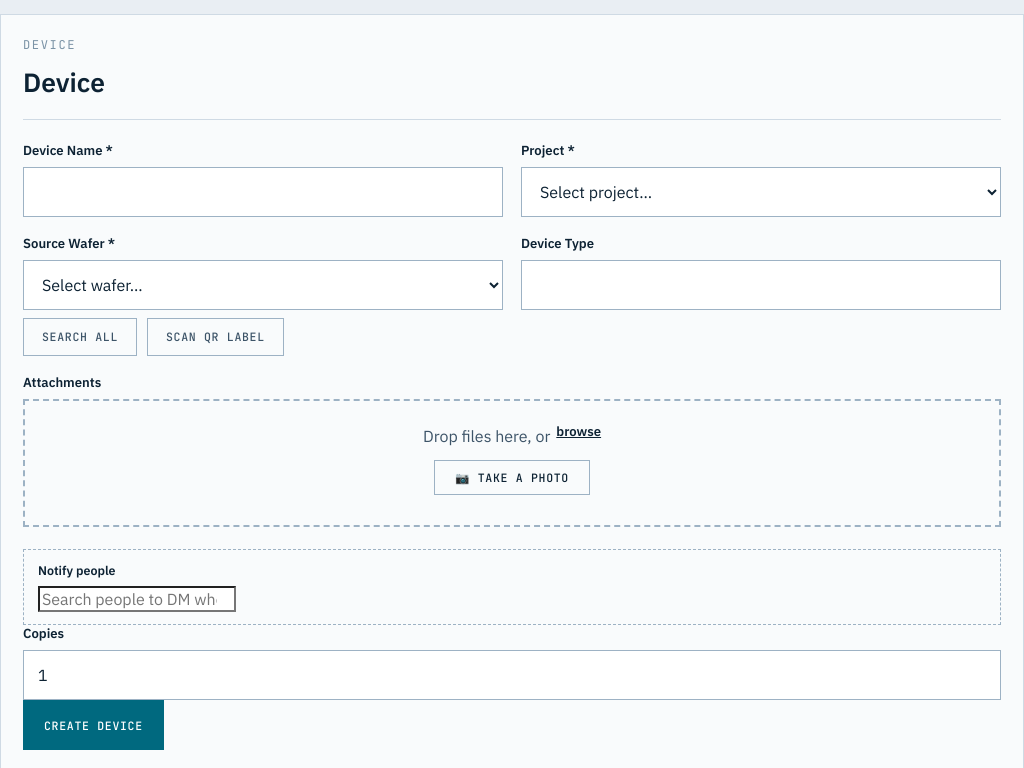
project dropdown › inherits the project from the picked wafer on the Device form
Expected: the dropdown labelled "Project *" is enabled, top-left (521, 167), bottom-right (1001, 217)
Select "W1" in the dropdown labelled "Source Wafer *" at (263, 285), box top-left (23, 260), bottom-right (503, 310)
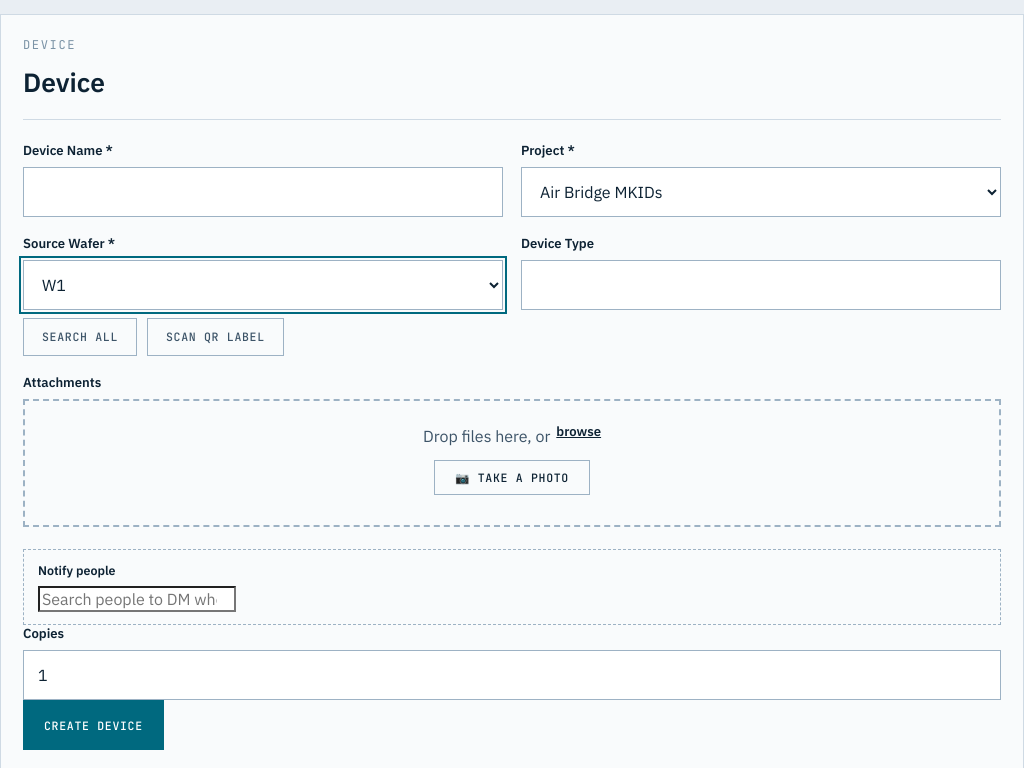
Expected: the dropdown labelled "Project *" shows "Air Bridge MKIDs", top-left (521, 167), bottom-right (1001, 217)
